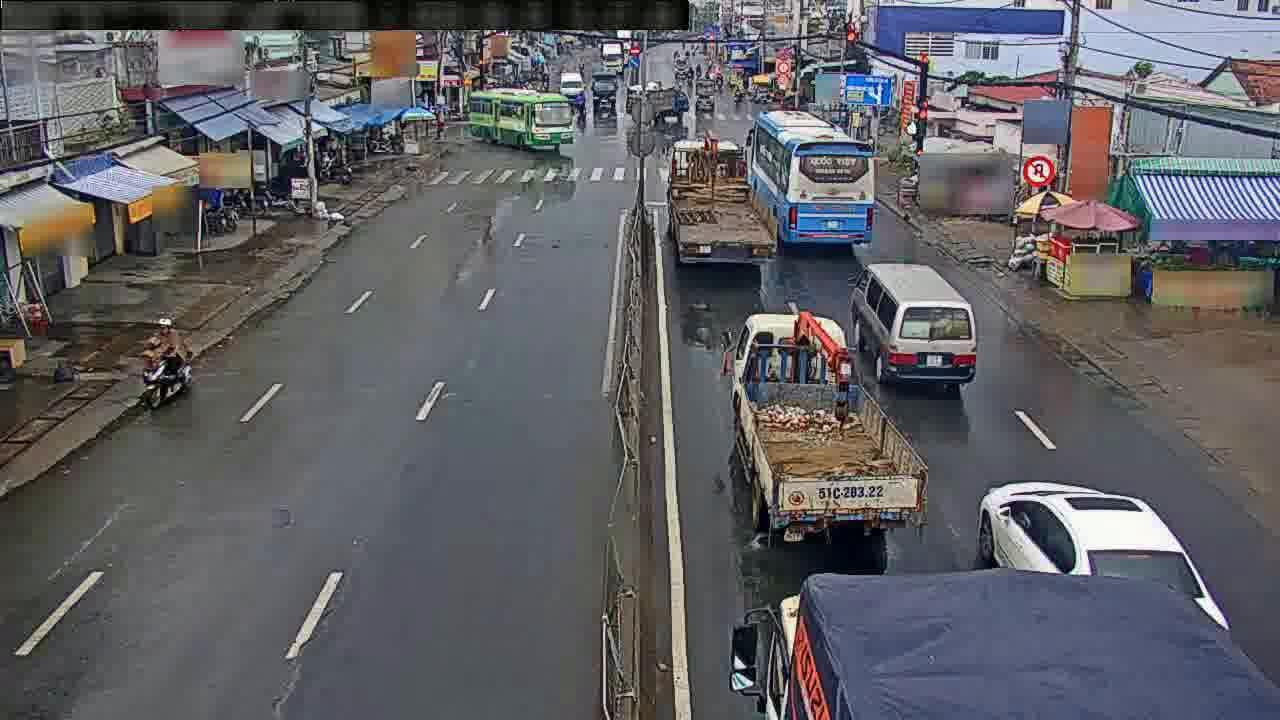14: (851, 254, 982, 389), (742, 112, 877, 241), (459, 88, 578, 148)
8: (702, 552, 1280, 720), (729, 307, 935, 523), (658, 139, 778, 272)
container: (982, 465, 1233, 661)
motorbike: (131, 315, 196, 407)
